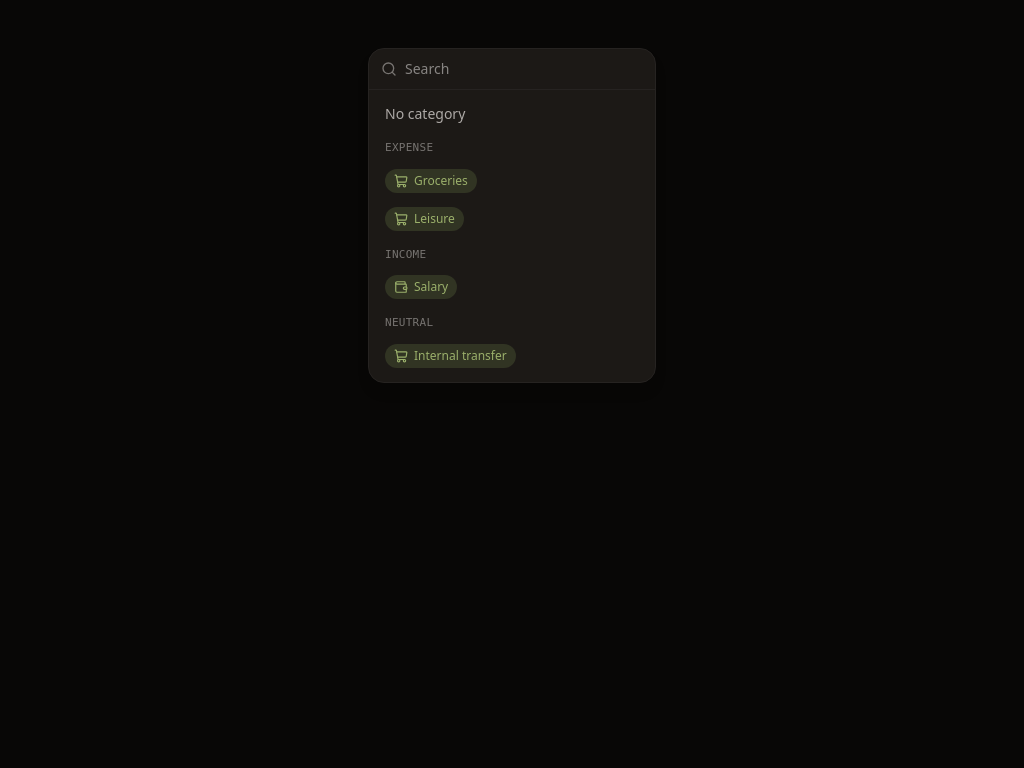
Test case: CategoryChooser › says nothing matches when the search leaves out every line, the no-category one included
Expected: the text "Groceries" is shown, [414,172,468,188]
Type "zzz" into the search field at (512, 69), box [369,49,655,89]
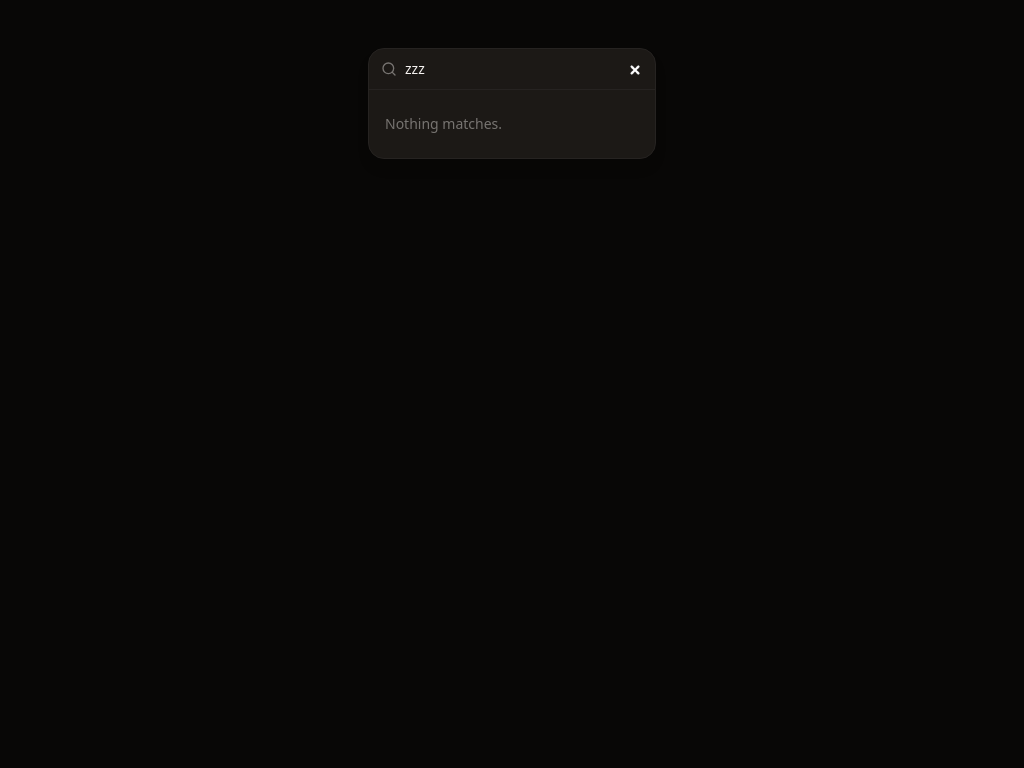
Expected: the option with test id "chooser-option-none" is gone
Expected: the text "Nothing matches." is shown, [385,114,502,133]
